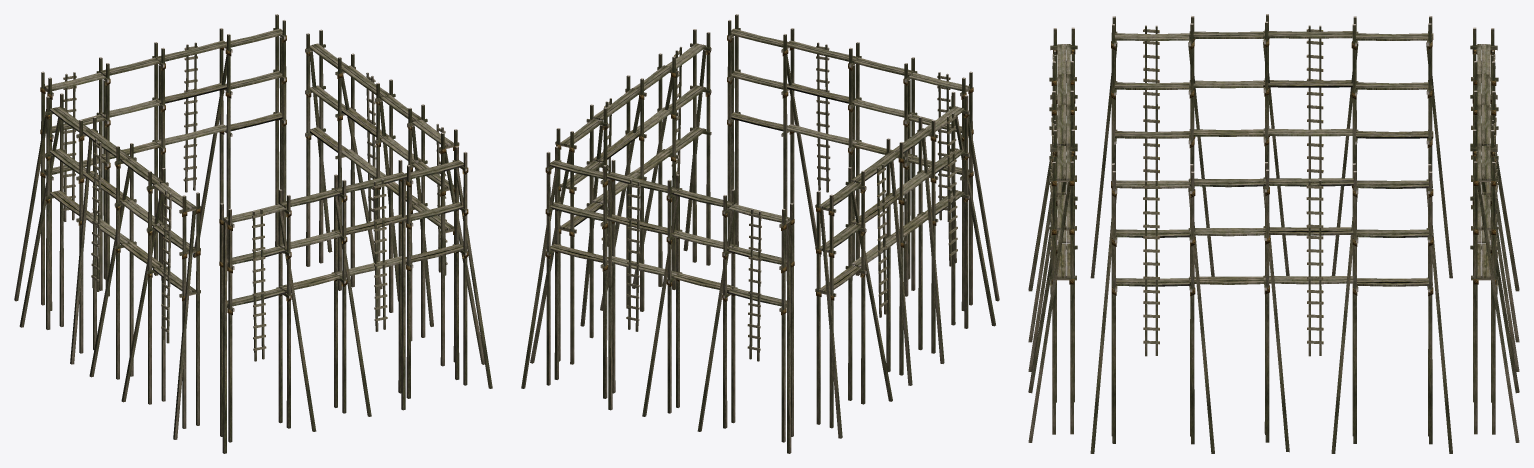
Rendered from scaffold_up_10x12_mausoleum.glb.
3 renders of one model, left to right at view 1: azimuth 30°, elevation 25°; view 2: azimuth 150°, elevation 25°; view 3: azimuth 270°, elevation 25°, orthographic. The views are drawn at different scales.
Parts seen in each view (by area): view 1: scaffold_up_10x12_mausoleum_part0; view 2: scaffold_up_10x12_mausoleum_part0; view 3: scaffold_up_10x12_mausoleum_part0.
Part boxes in pixels (left/top/right/bottom): scaffold_up_10x12_mausoleum_part0: left=14, top=14, right=492, bottom=453; scaffold_up_10x12_mausoleum_part0: left=521, top=14, right=999, bottom=453; scaffold_up_10x12_mausoleum_part0: left=1028, top=14, right=1519, bottom=453.
Bounding box in the file's own units: 6.51 × 4.67 × 7.61.
Materials: 1 (1 with a texture image).
